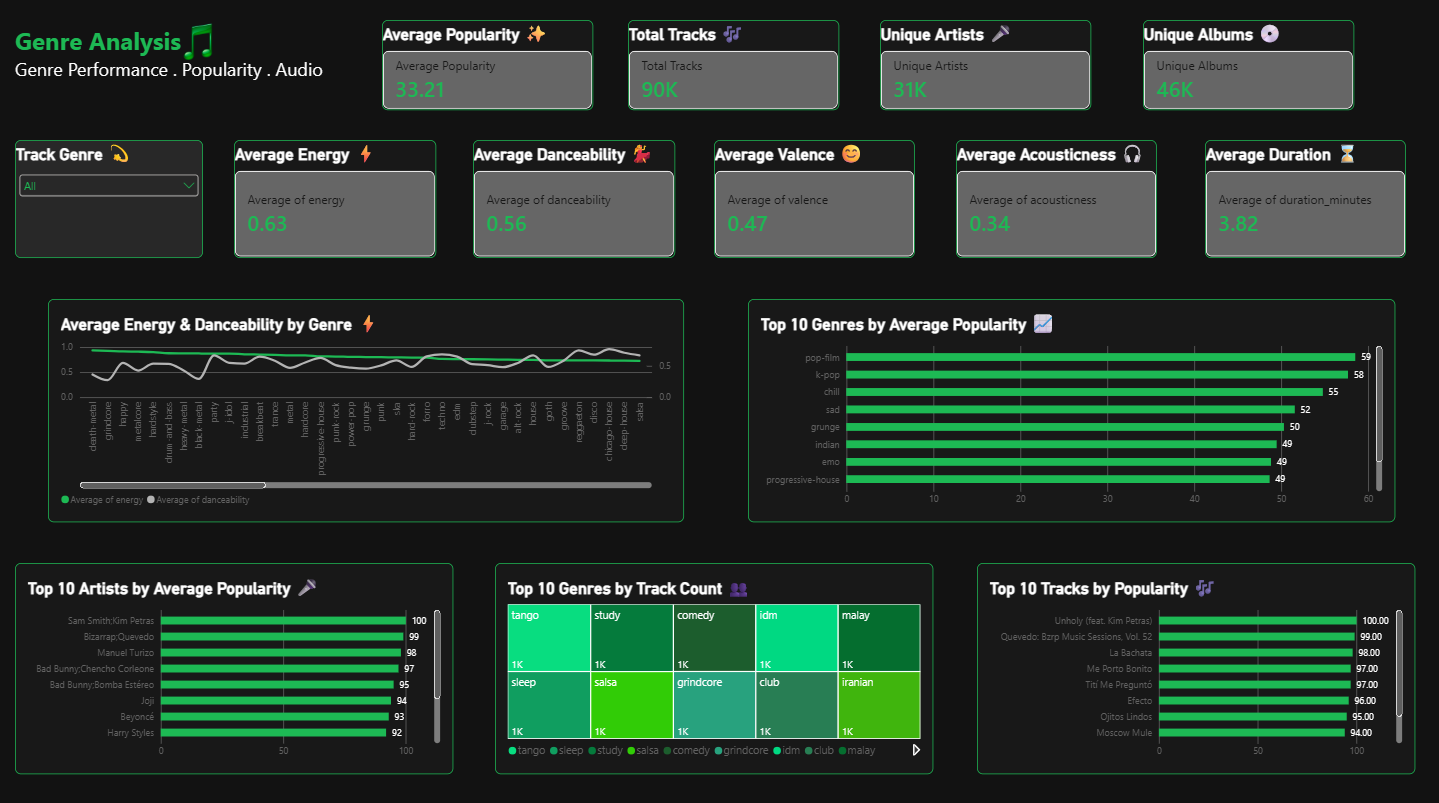

The page's visual inventory and layout, read from the dashboard file:
{"tool":"powerbi","page":{"name":"Genre Analysis","canvas":[1920,1080],"ordinal":1},"visuals":[{"type":"slicer","title":"Track Genre 💫","fields":{"Values":["spotify_tracks_final.track_genre"]},"box":[20,191.5,250,156.9],"z":0},{"type":"cardVisual","title":"Average Popularity ✨","fields":{"Data":["spotify_tracks_final.Average Popularity"]},"box":[508.1,31.9,280.6,119.7],"z":1000},{"type":"cardVisual","title":"Total Tracks 🎶","fields":{"Data":["spotify_tracks_final.Total Tracks"]},"box":[835.3,31.9,280.6,119.7],"z":2000},{"type":"cardVisual","title":"Unique Artists 🎤","fields":{"Data":["spotify_tracks_final.Unique Artists"]},"box":[1170.4,31.9,280.6,119.7],"z":3000},{"type":"cardVisual","title":"Unique Albums 💿","fields":{"Data":["spotify_tracks_final.Unique Albums"]},"box":[1520.2,31.9,280.6,119.7],"z":4000},{"type":"clusteredBarChart","title":"Top 10 Genres by Average Popularity 📈","fields":{"Category":["spotify_tracks_final.track_genre"],"Y":["spotify_tracks_final.Average Popularity"]},"box":[994.9,403,860.5,296.6],"z":5000},{"type":"cardVisual","title":"Average Energy ⚡","fields":{"Data":["Avg(spotify_tracks_final.energy)"]},"box":[311.2,191.5,268.7,156.9],"z":6000},{"type":"cardVisual","title":"Average Danceability 💃","fields":{"Data":["Avg(spotify_tracks_final.danceability)"]},"box":[629.1,191.5,268.7,156.9],"z":7000},{"type":"cardVisual","title":"Average Valence 😊","fields":{"Data":["Avg(spotify_tracks_final.valence)"]},"box":[949.7,191.5,267.3,156.9],"z":8000},{"type":"cardVisual","title":"Average Acousticness 🎧","fields":{"Data":["Avg(spotify_tracks_final.acousticness)"]},"box":[1271.5,191.5,267.3,156.9],"z":9000},{"type":"cardVisual","title":"Average Duration ⌛","fields":{"Data":["Avg(spotify_tracks_final.duration_minutes)"]},"box":[1602.7,191.5,267.3,156.9],"z":10000},{"type":"lineChart","title":"Average Energy & Danceability by Genre ⚡","fields":{"Category":["spotify_tracks_final.track_genre"],"Y":["Avg(spotify_tracks_final.energy)"],"Y2":["Avg(spotify_tracks_final.danceability)"]},"box":[63.8,403,845.9,296.6],"z":11000},{"type":"clusteredBarChart","title":"Top 10 Artists by Average Popularity 🎤","fields":{"Category":["spotify_tracks_final.artists"],"Y":["spotify_tracks_final.Average Popularity"]},"box":[20,754.1,582.6,280.6],"z":12000},{"type":"clusteredBarChart","title":"Top 10 Tracks by Popularity 🎶","fields":{"Category":["spotify_tracks_final.track_name"],"Y":["Avg(spotify_tracks_final.popularity)"]},"box":[1299.5,754.1,582.6,280.6],"z":13000},{"type":"treemap","title":"Top 10 Genres by Track Count 👥","fields":{"Group":["spotify_tracks_final.track_genre"],"Values":["spotify_tracks_final.Total Tracks"]},"box":[658.4,754.1,582.6,280.6],"z":14000},{"type":"textbox","box":[20,37.2,454.9,109.1],"z":15000},{"type":"image","box":[219.5,31.9,91.8,59.9],"z":16000}]}

Visuals, with their boxes in screenshot pixels (x1, y1, x2, y2), scaled from the page's 1920x1080 canvas onto the 1439x803 screenshot:
"Track Genre 💫" slicer: box=[15, 142, 202, 259]
"Average Popularity ✨" cardVisual: box=[381, 24, 591, 113]
"Total Tracks 🎶" cardVisual: box=[626, 24, 836, 113]
"Unique Artists 🎤" cardVisual: box=[877, 24, 1087, 113]
"Unique Albums 💿" cardVisual: box=[1139, 24, 1350, 113]
"Top 10 Genres by Average Popularity 📈" clusteredBarChart: box=[746, 300, 1391, 520]
"Average Energy ⚡" cardVisual: box=[233, 142, 435, 259]
"Average Danceability 💃" cardVisual: box=[471, 142, 673, 259]
"Average Valence 😊" cardVisual: box=[712, 142, 912, 259]
"Average Acousticness 🎧" cardVisual: box=[953, 142, 1153, 259]
"Average Duration ⌛" cardVisual: box=[1201, 142, 1402, 259]
"Average Energy & Danceability by Genre ⚡" lineChart: box=[48, 300, 682, 520]
"Top 10 Artists by Average Popularity 🎤" clusteredBarChart: box=[15, 561, 452, 769]
"Top 10 Tracks by Popularity 🎶" clusteredBarChart: box=[974, 561, 1411, 769]
"Top 10 Genres by Track Count 👥" treemap: box=[493, 561, 930, 769]
textbox: box=[15, 28, 356, 109]
image: box=[165, 24, 233, 68]
